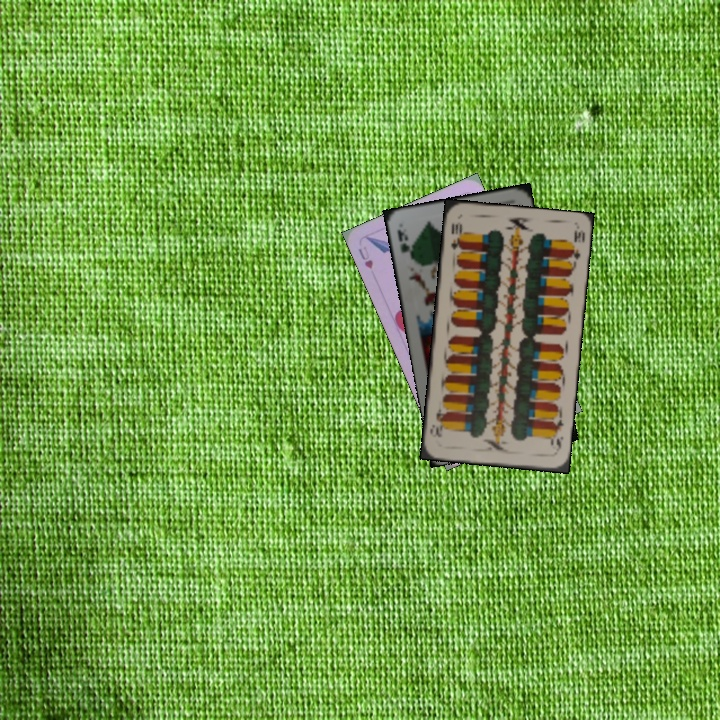E10: (546, 415, 566, 454), (447, 217, 465, 252)
GK: (393, 225, 412, 255)
HU: (354, 242, 376, 272)
